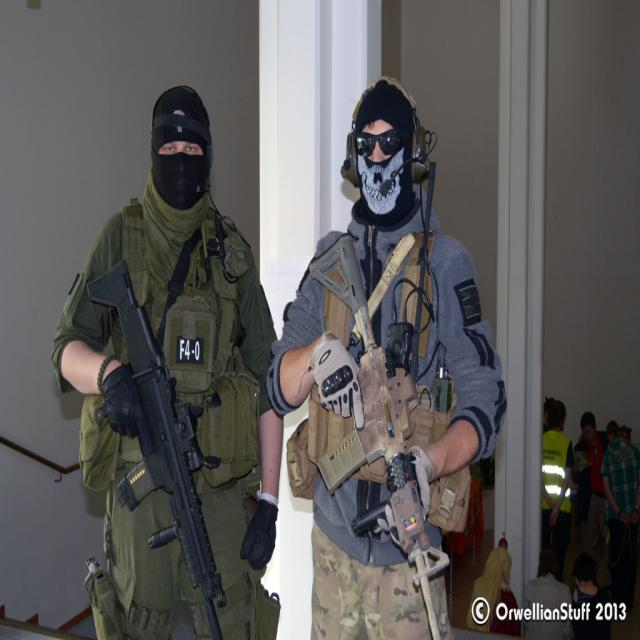Weapon: (92, 248, 238, 629)
